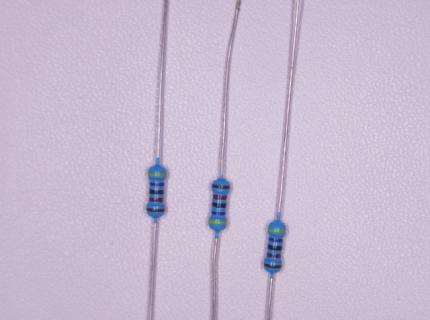Black band: (267, 244, 282, 251), (149, 189, 165, 195), (211, 202, 227, 208)
Brown band: (211, 184, 230, 190), (264, 263, 282, 269), (146, 208, 165, 212)
Red band: (149, 197, 164, 203), (266, 253, 281, 258), (213, 195, 227, 200)
Violet band: (211, 211, 226, 216), (268, 237, 283, 242), (149, 183, 164, 187)
Yellow band: (268, 228, 286, 234), (209, 220, 227, 225), (148, 173, 167, 177)
